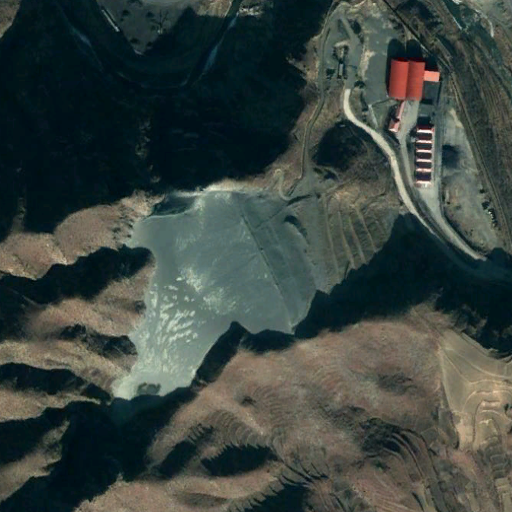tp: (107, 185, 402, 429)
